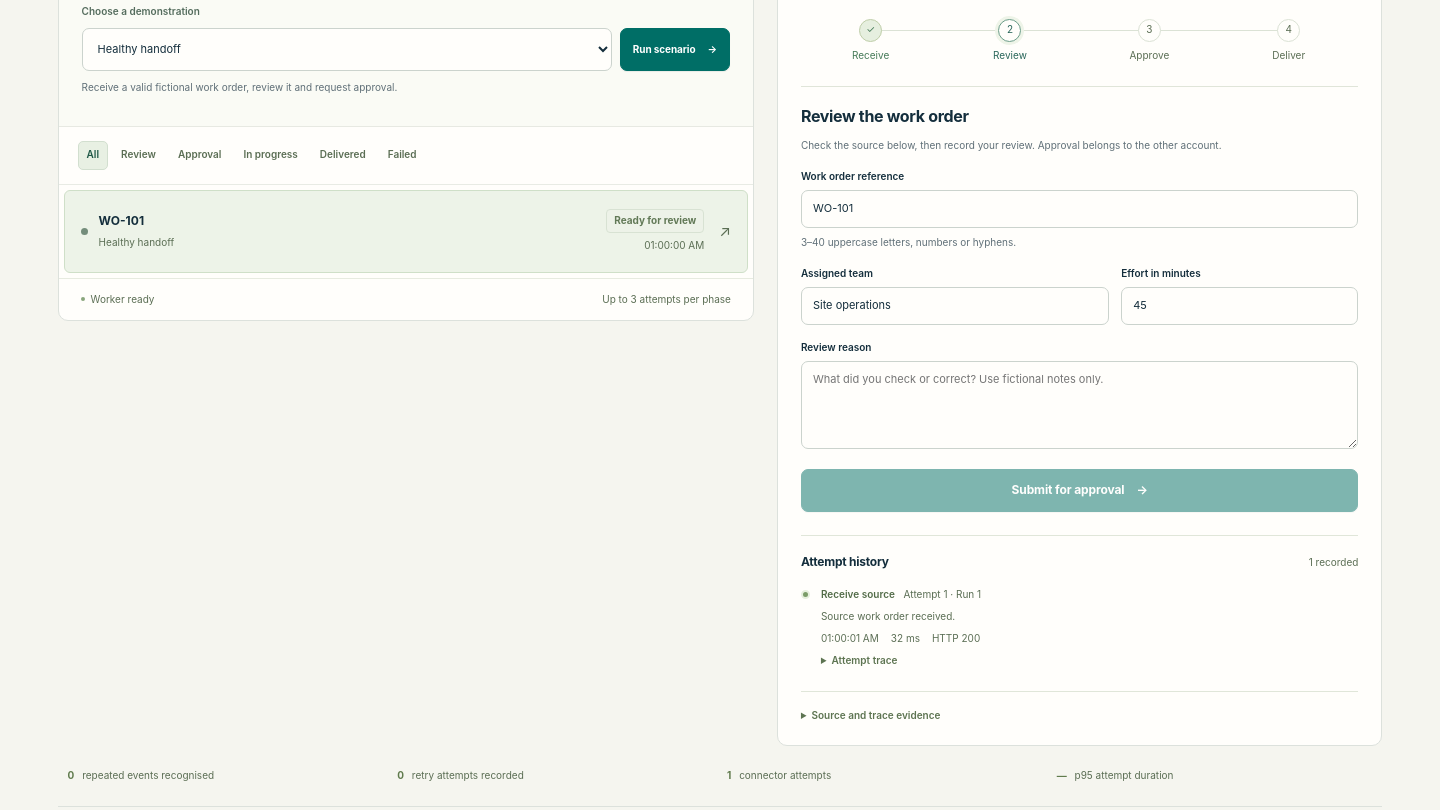
Test: Team edition commands and evidence › blocks malformed references and out-of-range effort before sending a review
(page scrolled)
Type "Source record checked carefully." into the text box labelled "Review reason". click: (1080, 405)
box: x1=801 y1=361 x2=1358 y2=449
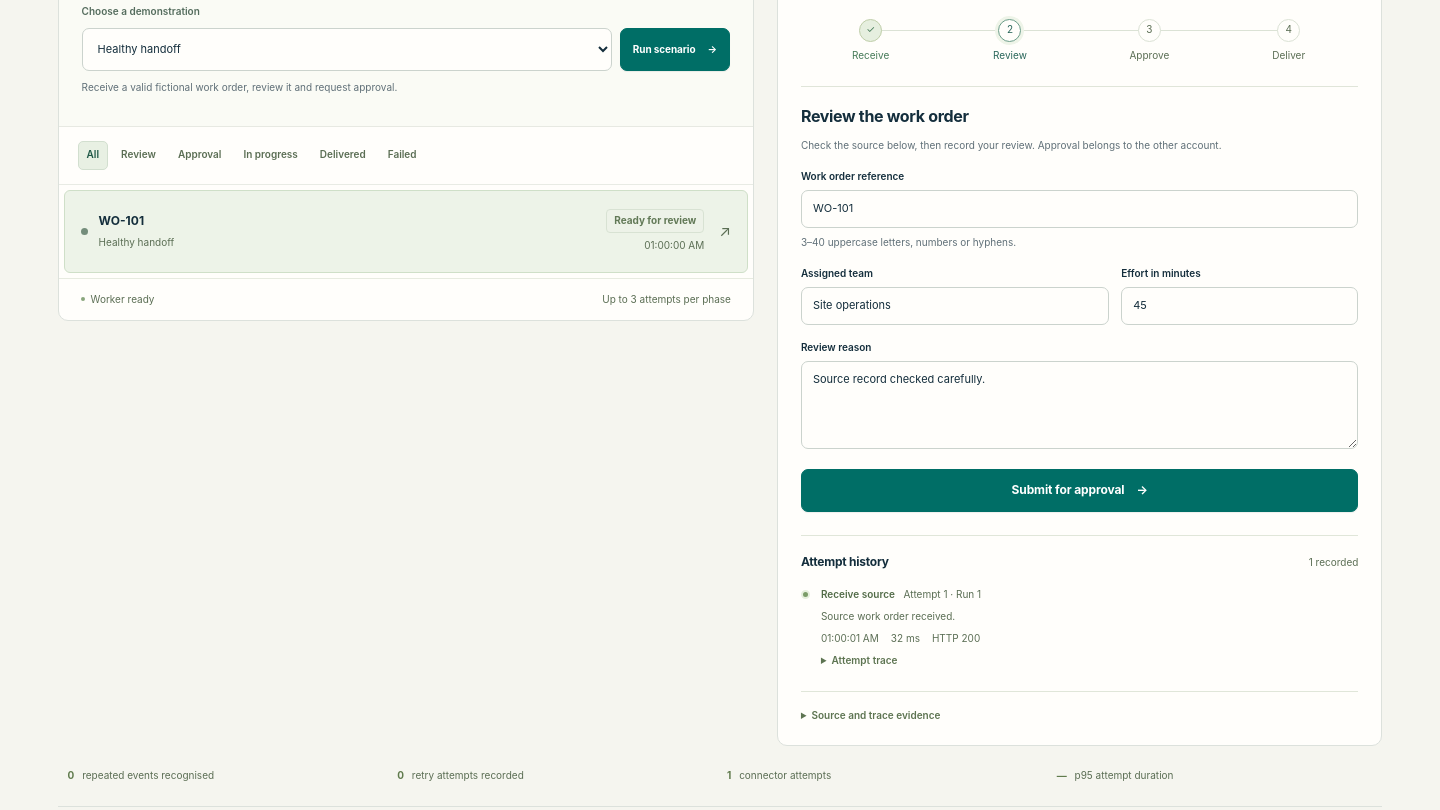
Replace the text in the field labelled "Work order reference" with "lowercase invalid". click: (1080, 209)
box: x1=801 y1=190 x2=1358 y2=228
Click the button "Submit for approval →". click: (1080, 490)
box: x1=801 y1=469 x2=1358 y2=512
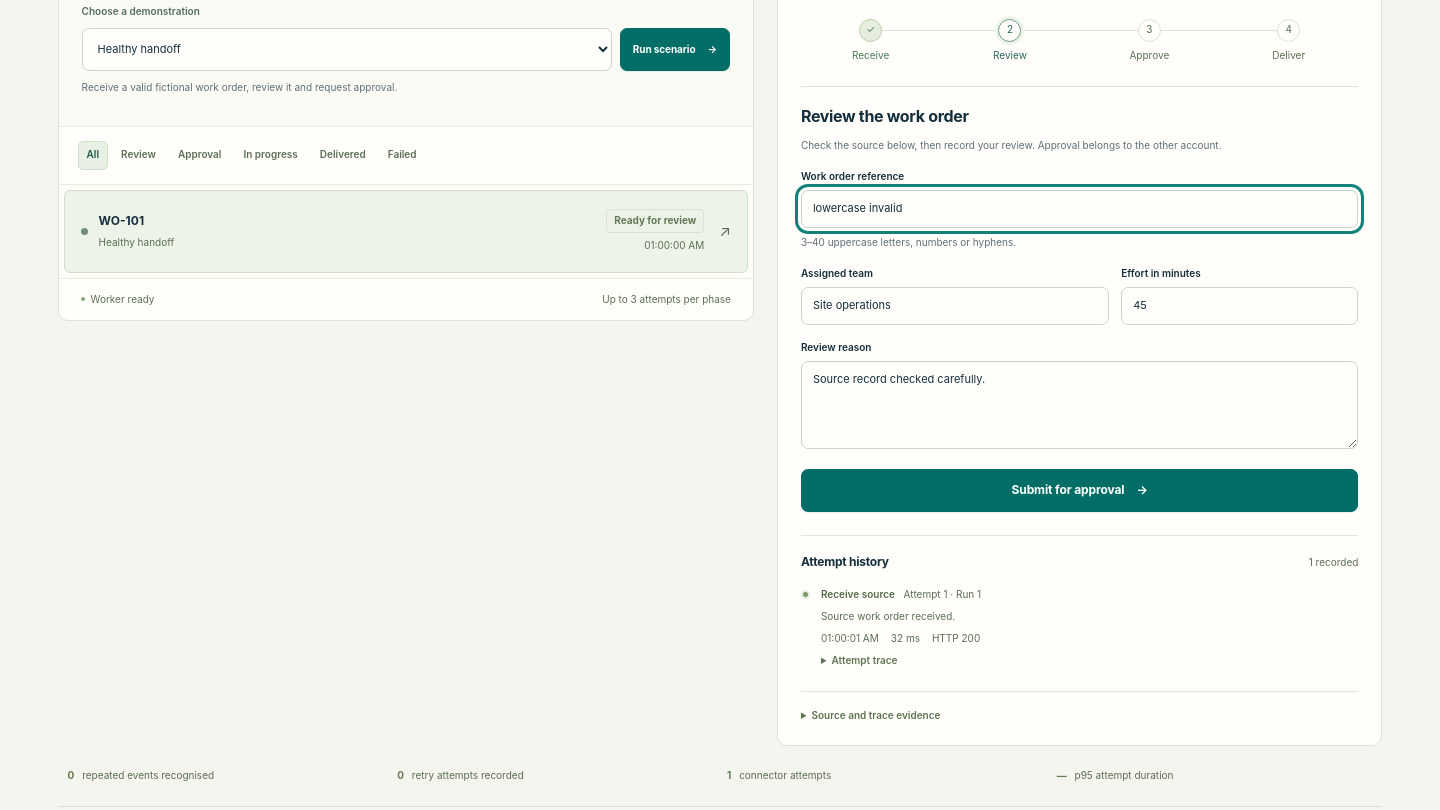
Replace the text in the field labelled "Work order reference" with "WO-101". click: (1080, 209)
box: x1=801 y1=190 x2=1358 y2=228
Replace the text in the number field labelled "Effort in minutes" with "10081". click: (1240, 306)
box: x1=1121 y1=287 x2=1358 y2=325
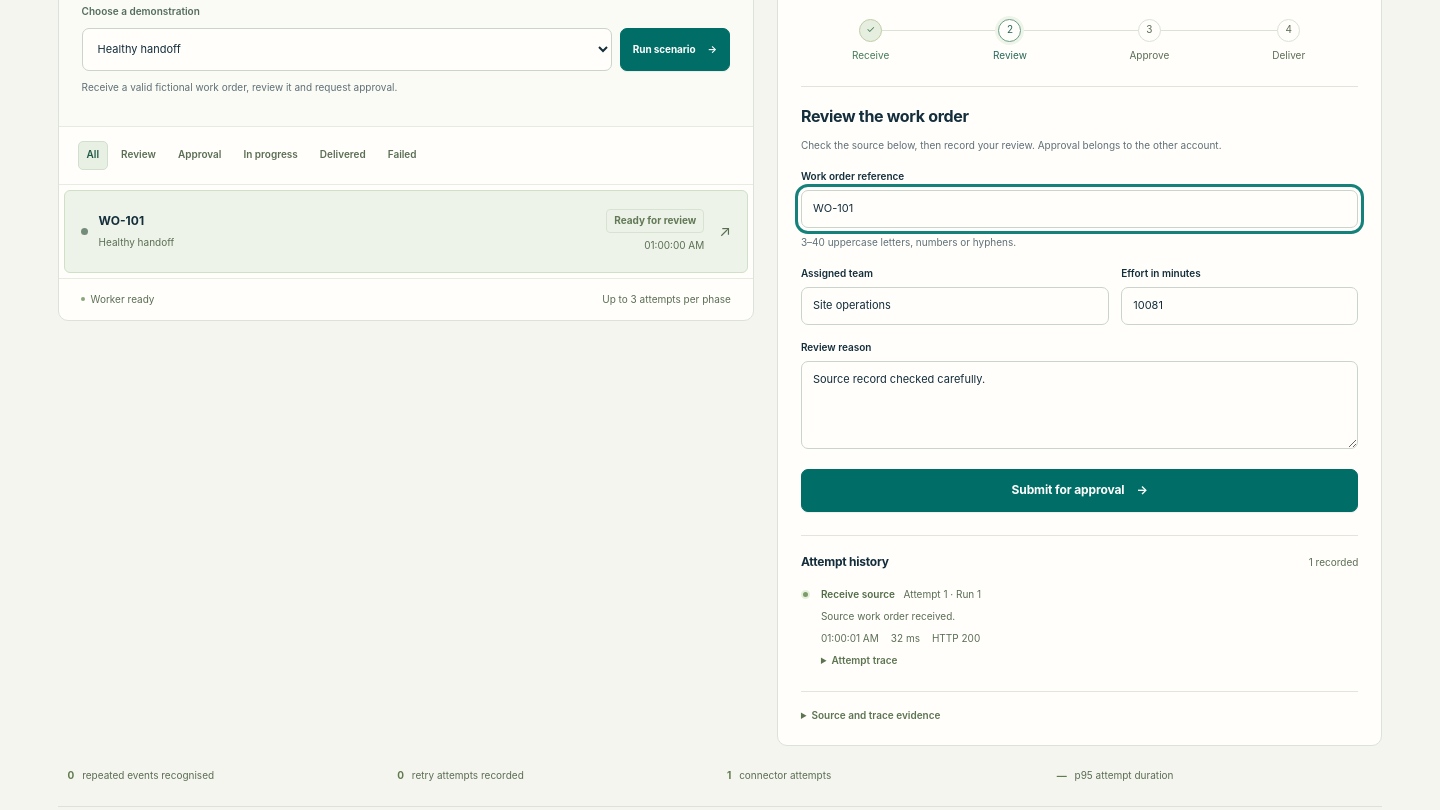
Click the button "Submit for approval →". click: (1080, 490)
box: x1=801 y1=469 x2=1358 y2=512
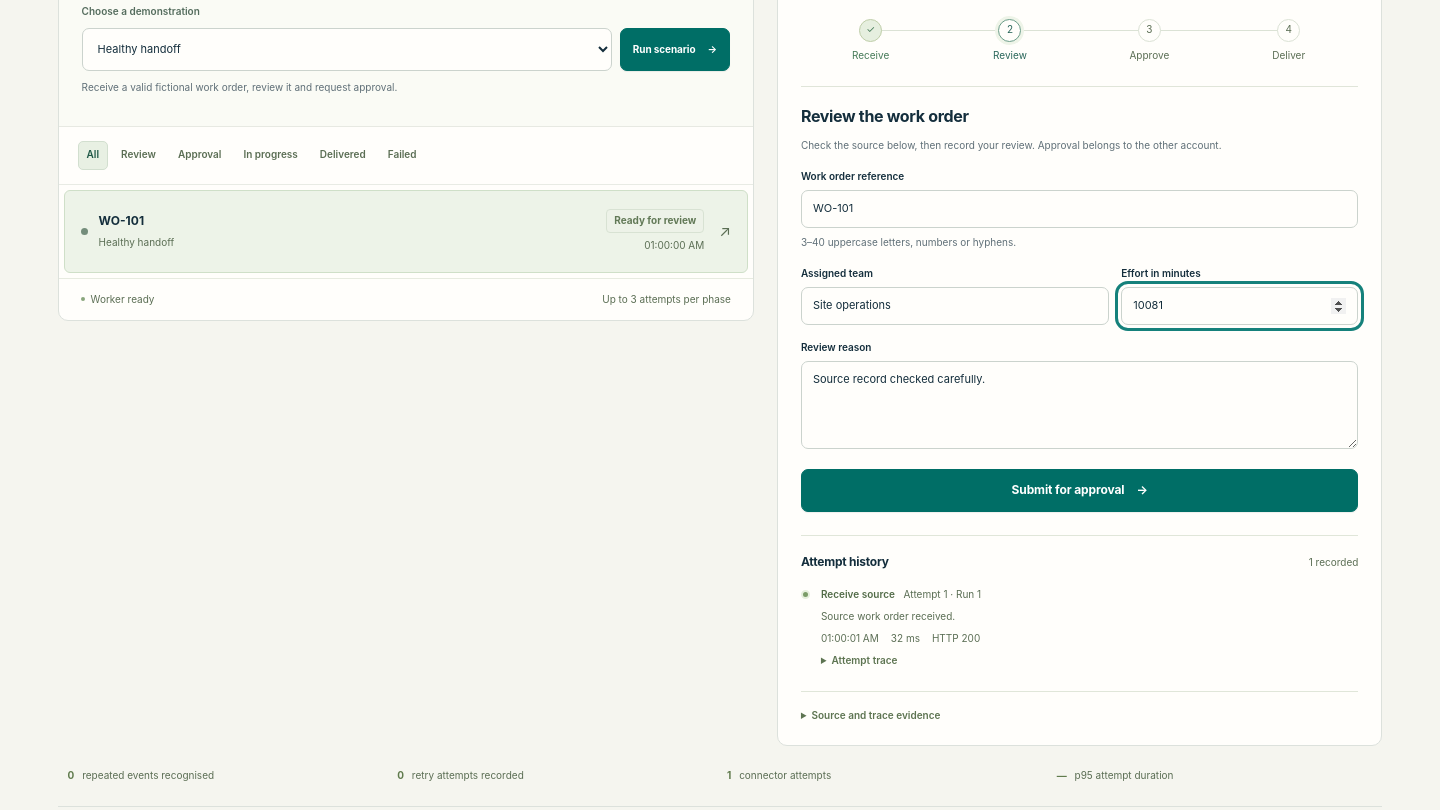
Replace the text in the number field labelled "Effort in minutes" with "60". click: (1240, 306)
box: x1=1121 y1=287 x2=1358 y2=325
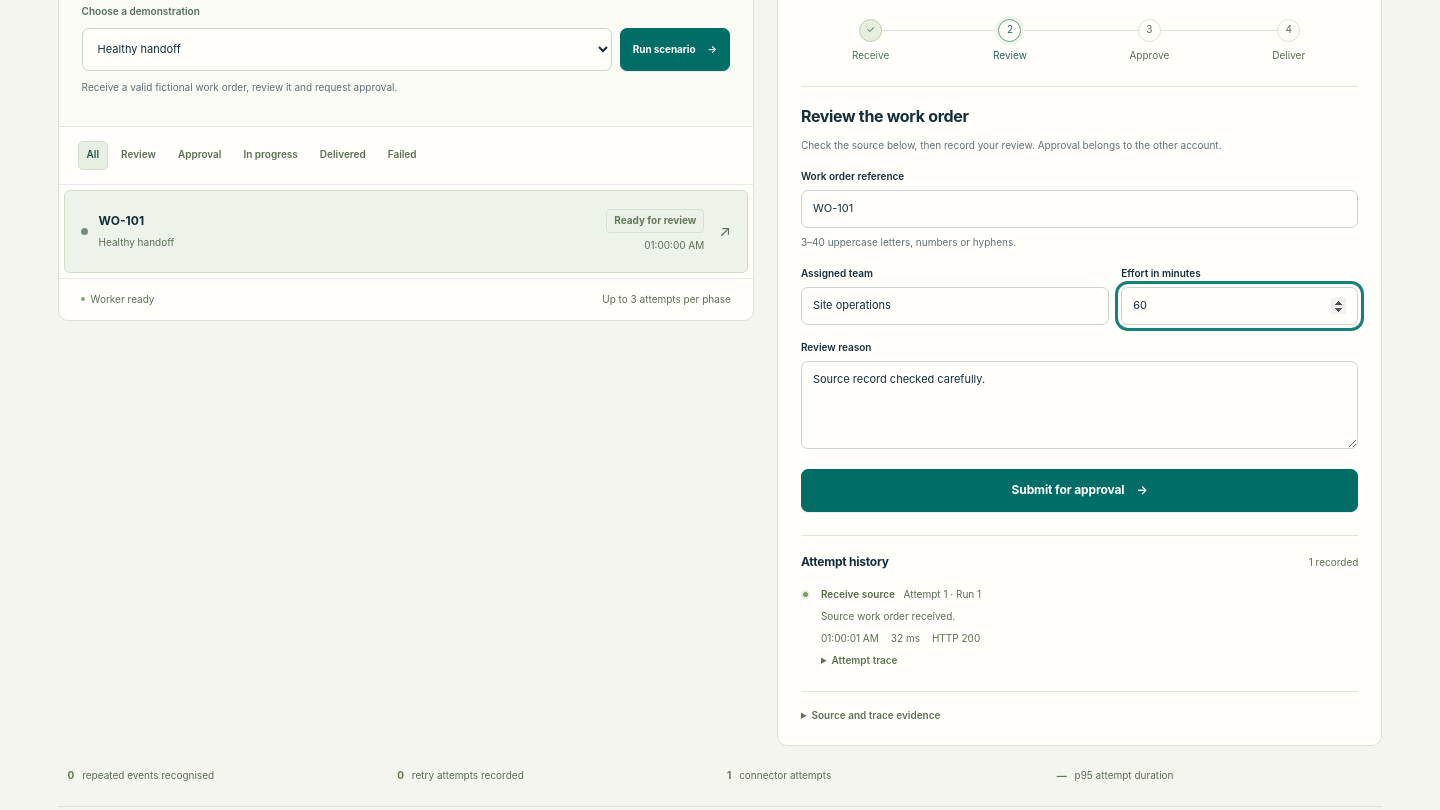
Click the button "Submit for approval →". click: (1080, 490)
box: x1=801 y1=469 x2=1358 y2=512
(page scrolled)
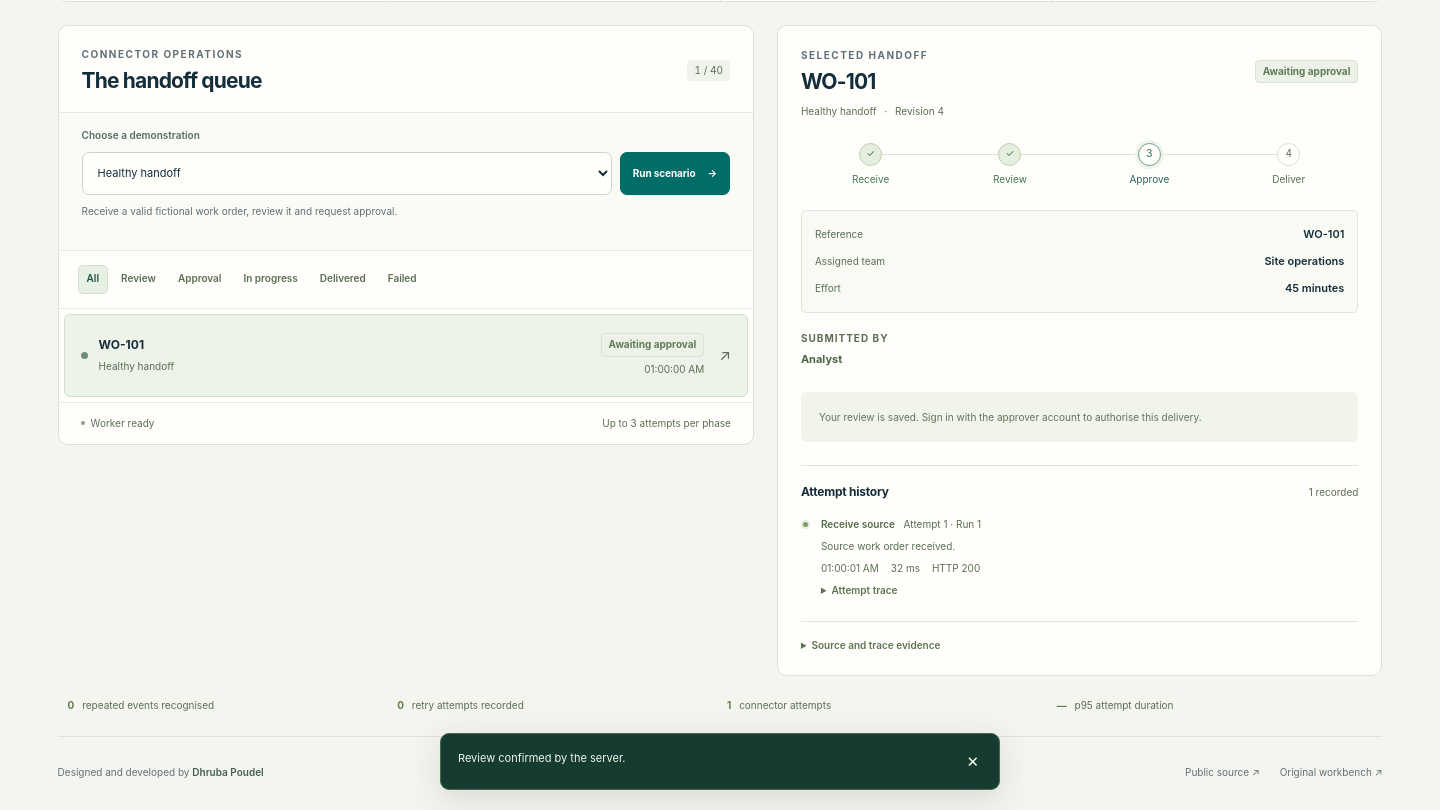
Check: the text "Your review is saved" is shown, box x1=819 y1=411 x2=1202 y2=423
